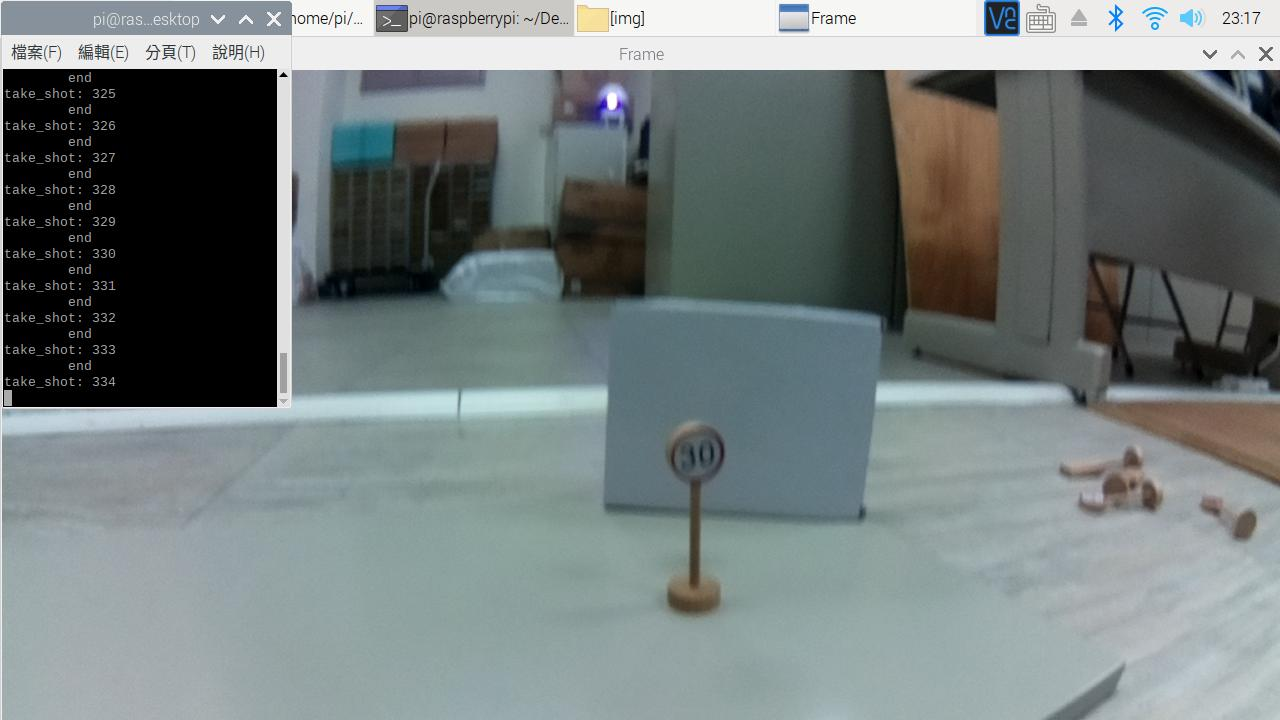Speed30: (657, 420, 737, 491)
